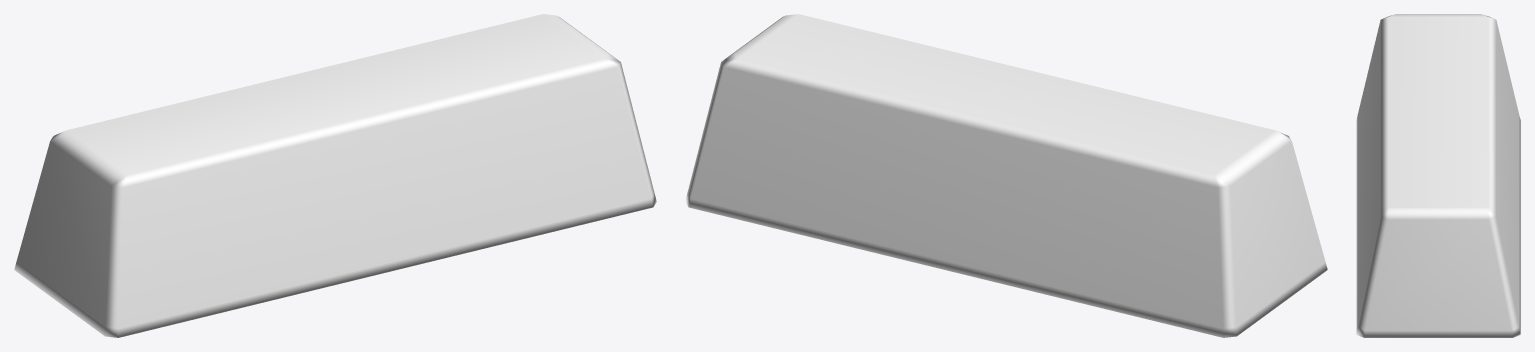
The model's file is SM_RefinedMetal_2a.fbx.
3 renders of one model, left to right at view 1: azimuth 30°, elevation 25°; view 2: azimuth 150°, elevation 25°; view 3: azimuth 270°, elevation 25°, orthographic. The views are drawn at different scales.
Parts seen in each view (by area): view 1: RefinedMetal_2a; view 2: RefinedMetal_2a; view 3: RefinedMetal_2a.
Part boxes in pixels (<box>): RefinedMetal_2a: <box>14,14,656,337</box>; RefinedMetal_2a: <box>685,14,1327,337</box>; RefinedMetal_2a: <box>1356,14,1520,337</box>.
Size of the model in its own units: 0.8441 by 0.2067 by 0.2668.
